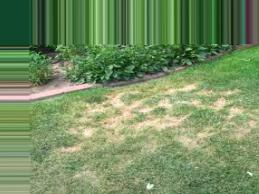patch: (118, 90, 224, 140)
